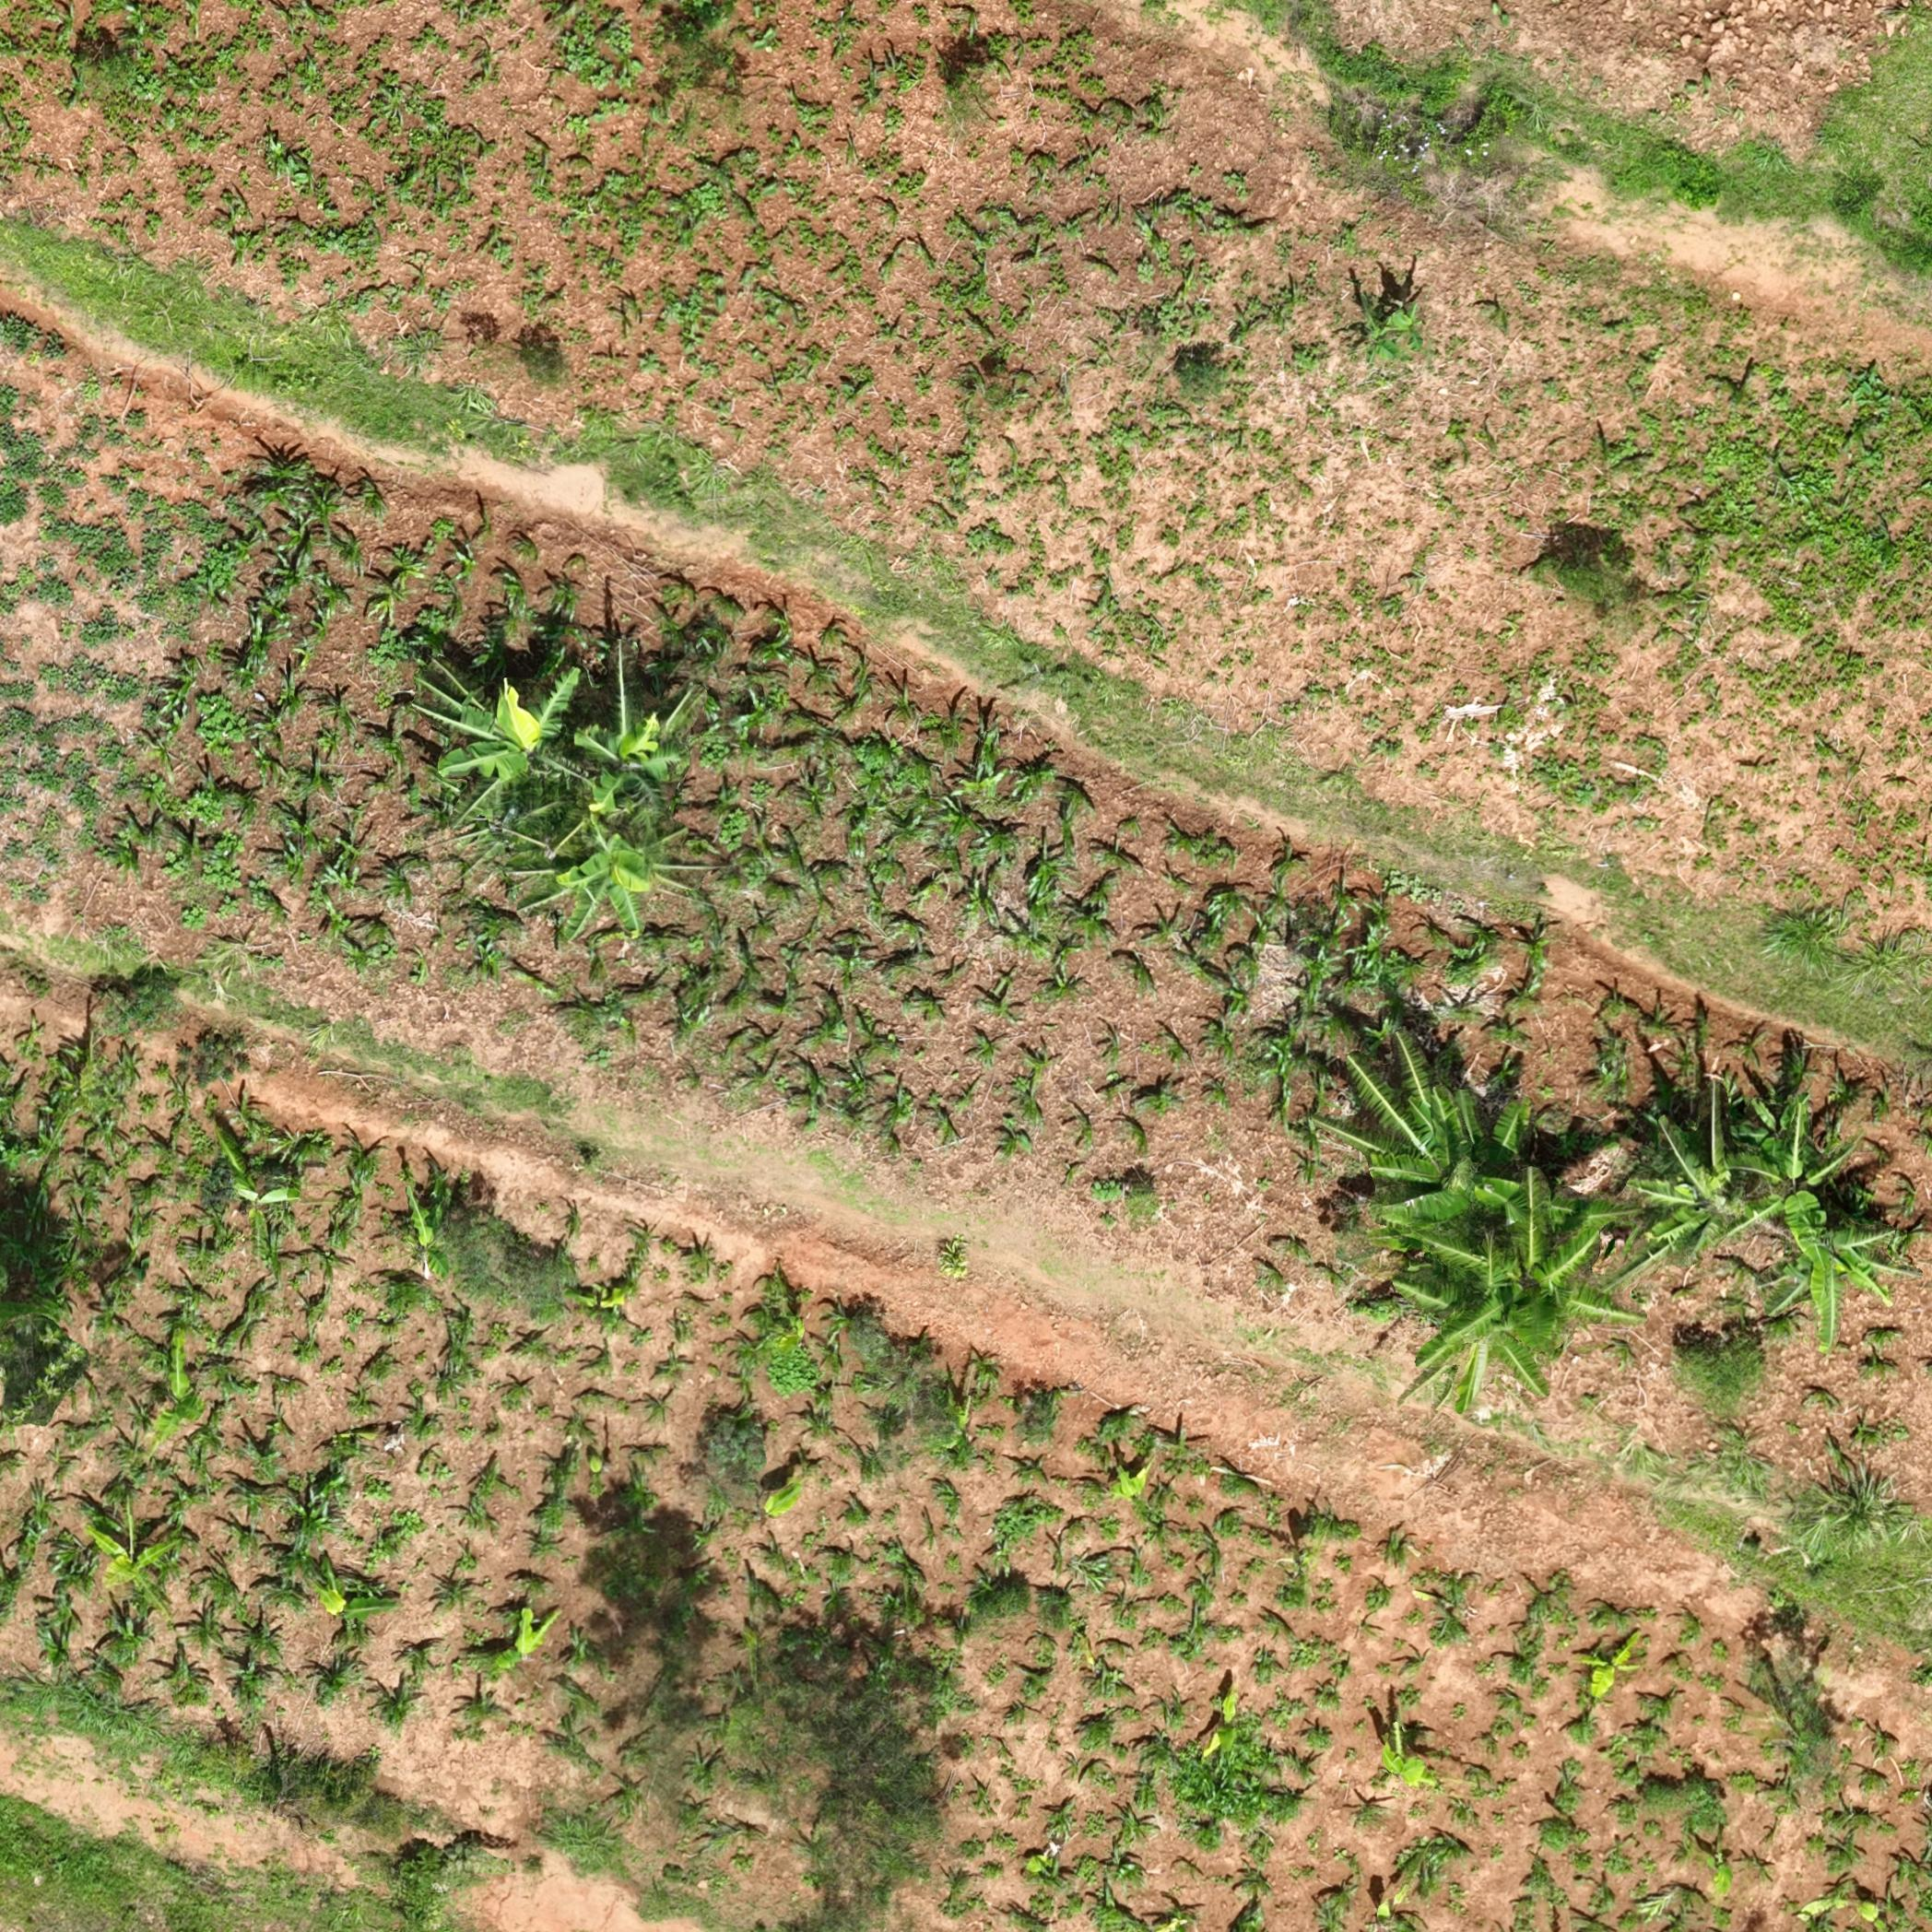Banana: (1327, 1024, 1525, 1231), (1755, 1099, 1895, 1345), (1382, 1210, 1552, 1410), (403, 642, 570, 817), (510, 805, 688, 945), (1645, 1079, 1748, 1249), (561, 674, 704, 787), (87, 1506, 173, 1596), (225, 1152, 311, 1219), (1576, 1635, 1649, 1700), (145, 1353, 196, 1433), (750, 1467, 803, 1523), (1208, 1684, 1242, 1760), (1115, 1445, 1154, 1504)
